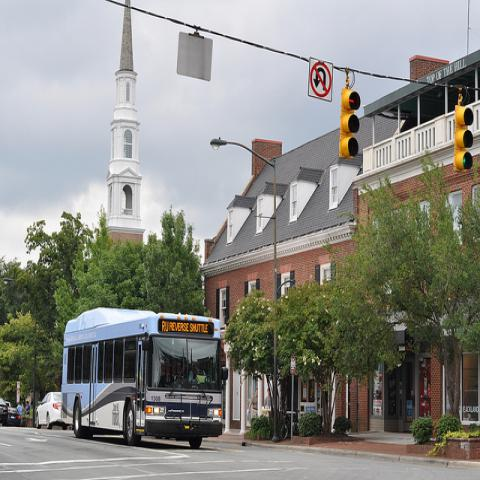bus: (60, 307, 227, 444)
car: (34, 390, 70, 430), (8, 407, 22, 427), (0, 397, 9, 426)
